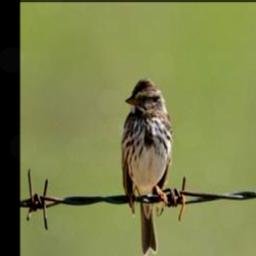Sparrow: (119, 76, 175, 254)
